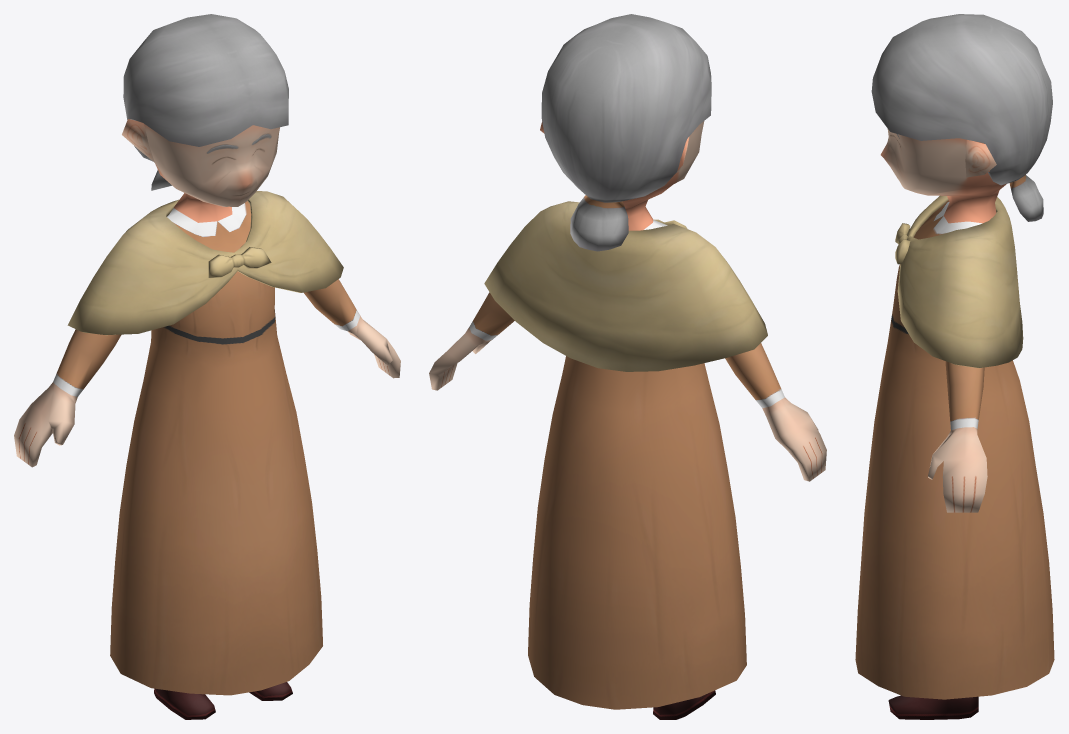
The picture shows the model from 3 angles, left to right: view 1: azimuth 30°, elevation 25°; view 2: azimuth 150°, elevation 25°; view 3: azimuth 270°, elevation 25°; orthographic projection. The views are drawn at different scales.
Parts seen in each view (by area): view 1: Peasant Elder Grenda, Shawl; view 2: Peasant Elder Grenda, Shawl; view 3: Peasant Elder Grenda, Shawl.
Part boxes in pixels (bbox=[...]): Peasant Elder Grenda: bbox=[14, 14, 400, 719]; Shawl: bbox=[67, 191, 343, 335]; Peasant Elder Grenda: bbox=[429, 14, 826, 719]; Shawl: bbox=[484, 201, 767, 371]; Peasant Elder Grenda: bbox=[855, 14, 1054, 719]; Shawl: bbox=[895, 195, 1023, 368].
Bounding box in the file's own units: 191 × 328 × 88.32.
